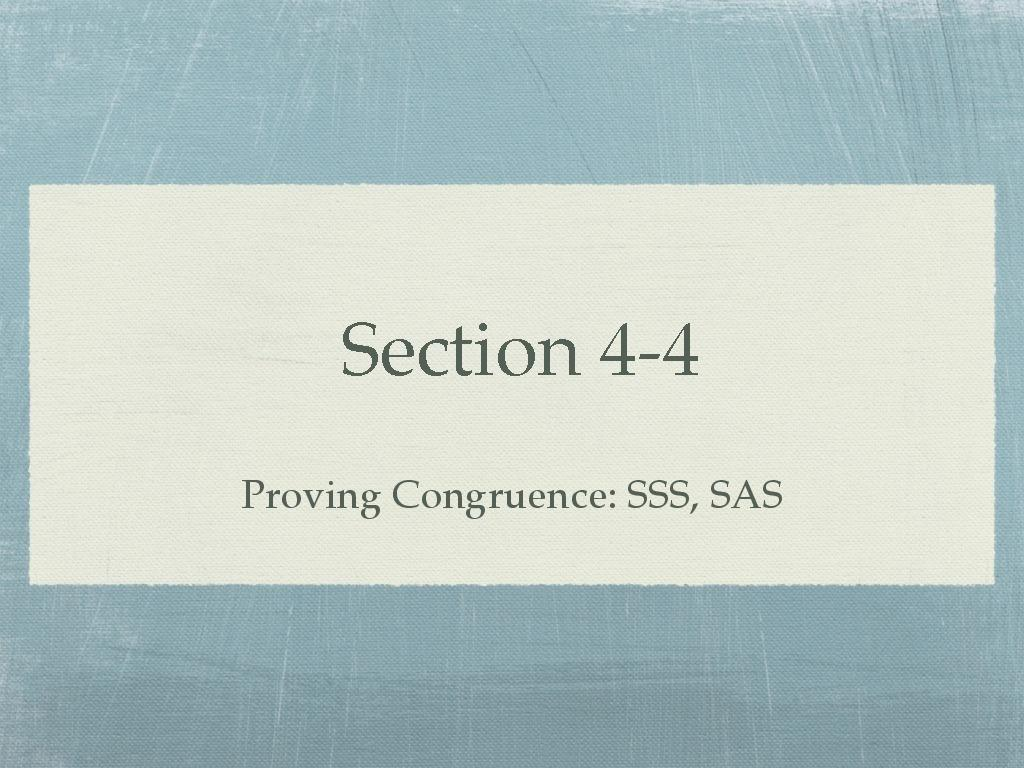subtitle: (226, 446, 797, 555)
title: (316, 300, 756, 408)
